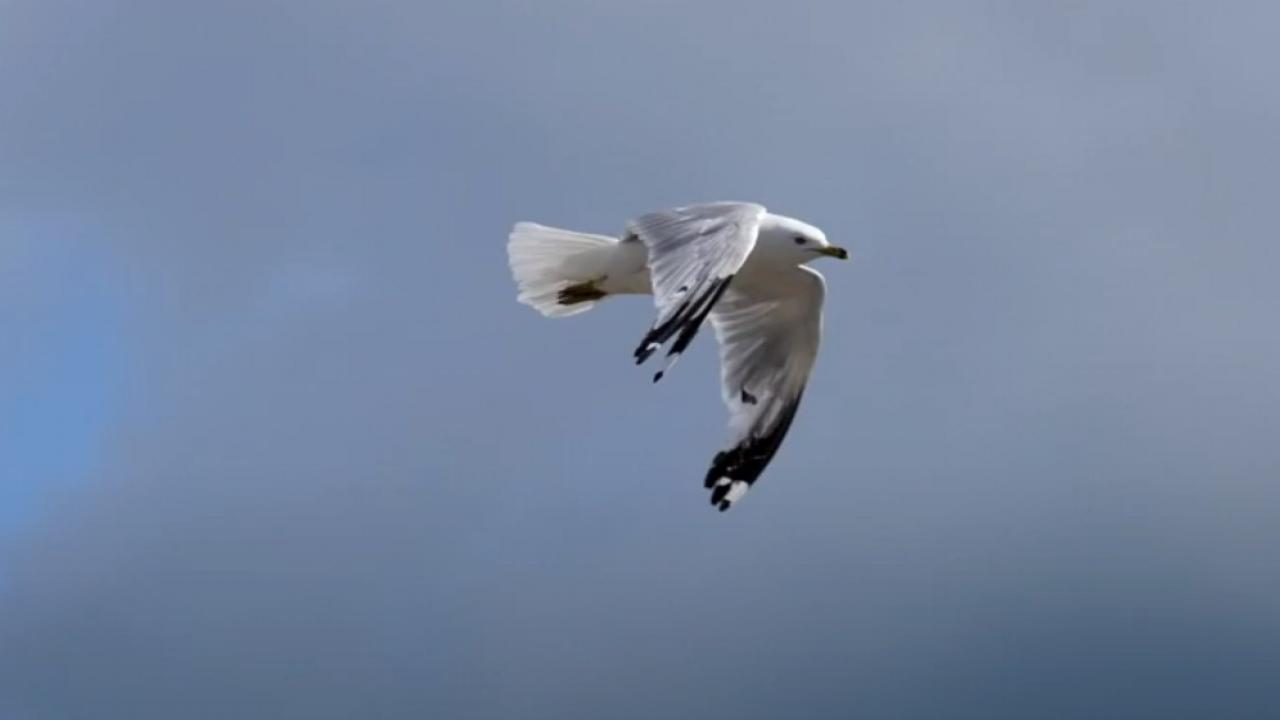Bird: (498, 192, 858, 521)
